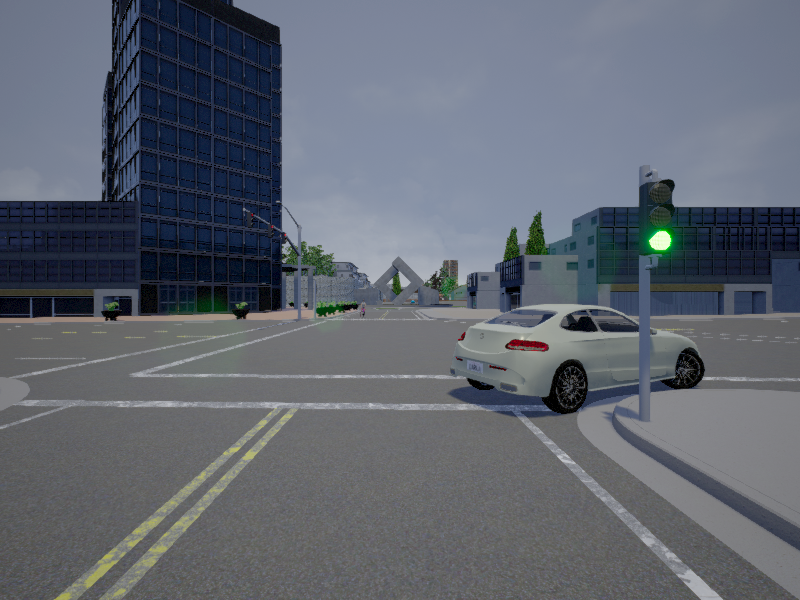Benign: (452, 302, 707, 419)
